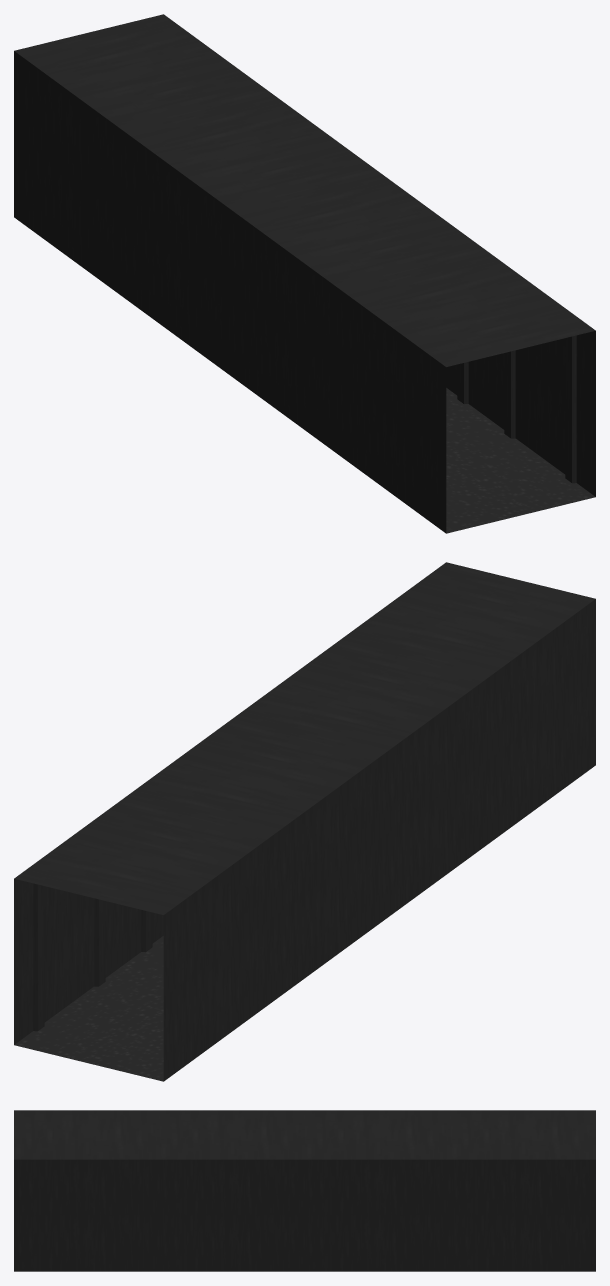
Rendered from SW_ENV_RailTunnel_B_01_Single_20m.fbx.
3 views of the same model, one above another, from view 1: azimuth 30°, elevation 25°; view 2: azimuth 150°, elevation 25°; view 3: azimuth 270°, elevation 25° (orthographic). The views are drawn at different scales.
Visible parts, largest first — view 1: SW_ENV_RailTunnel_B_01_Single_20m; view 2: SW_ENV_RailTunnel_B_01_Single_20m; view 3: SW_ENV_RailTunnel_B_01_Single_20m.
Part boxes in pixels (left/top/right/bottom): SW_ENV_RailTunnel_B_01_Single_20m: left=14, top=14, right=595, bottom=533; SW_ENV_RailTunnel_B_01_Single_20m: left=14, top=562, right=595, bottom=1081; SW_ENV_RailTunnel_B_01_Single_20m: left=14, top=1110, right=595, bottom=1271.
Size of the model in its own units: 400 by 425 by 2000.
